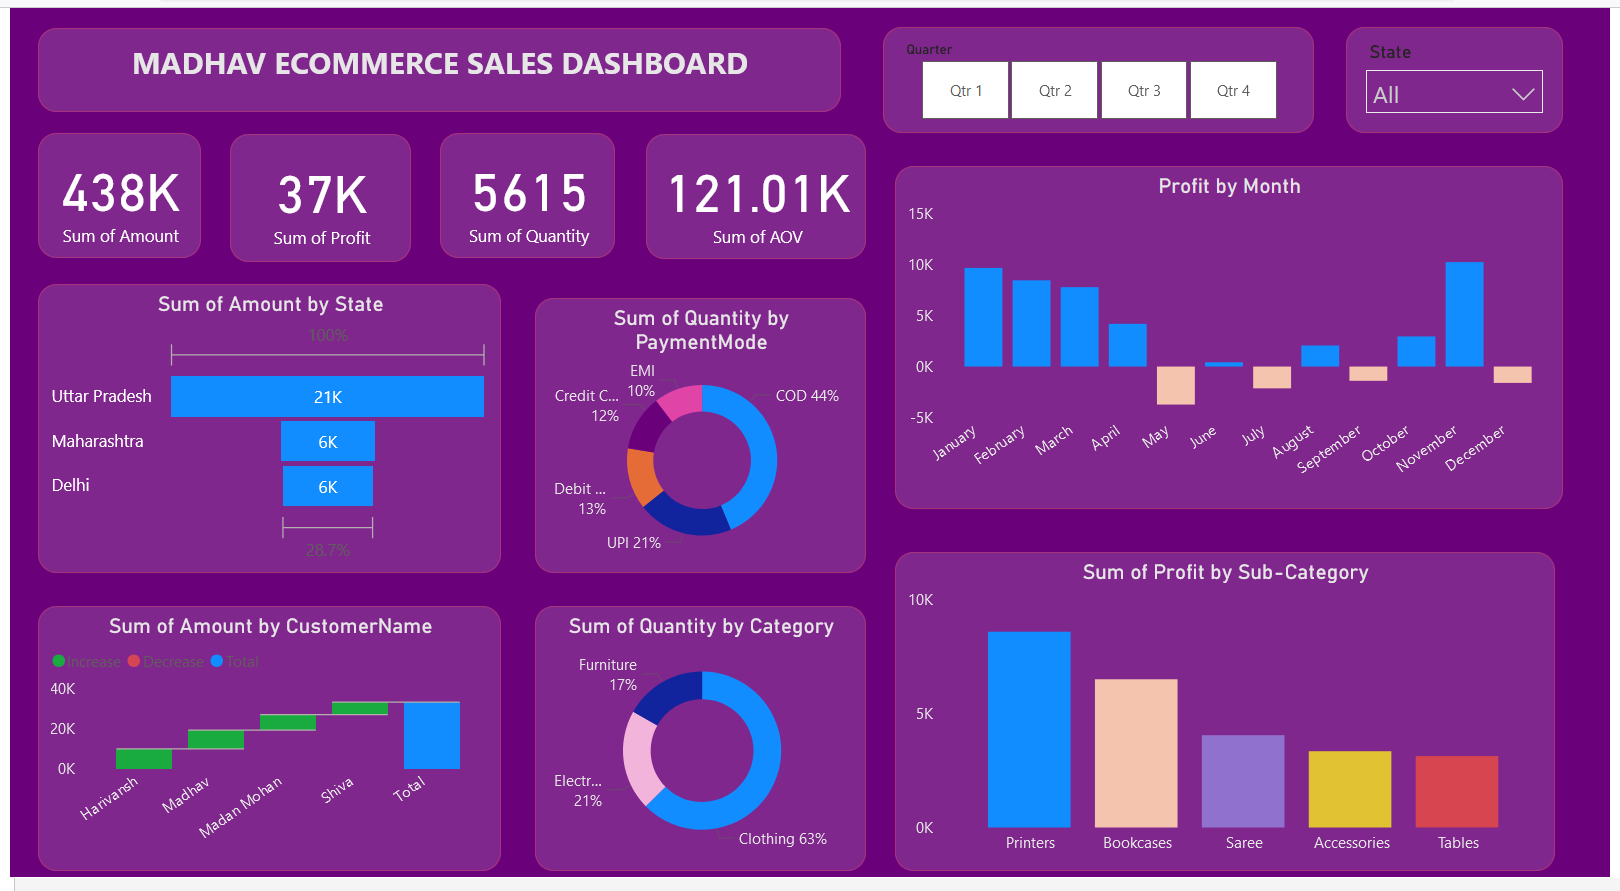

The page's visual inventory and layout, read from the dashboard file:
{"tool":"powerbi","page":{"name":"Page 1","canvas":[1280,720],"ordinal":0},"visuals":[{"type":"clusteredColumnChart","title":"Profit by Month","fields":{"Category":["Orders.Order Date.Variation.Date Hierarchy.Month"],"Y":["Sum(Details.Profit)"]},"box":[708.1,126.2,533.8,274.4],"z":0},{"type":"columnChart","fields":{"Category":["Details.Sub-Category"],"Y":["Sum(Details.Profit)"]},"box":[708.1,435,528.3,255.2],"z":1000},{"type":"donutChart","fields":{"Category":["Details.Category"],"Y":["Sum(Details.Quantity)"]},"box":[419.7,477.6,265.3,212.3],"z":2000},{"type":"donutChart","fields":{"Y":["Sum(Details.Quantity)"],"Category":["Details.PaymentMode"]},"box":[419.7,231.6,265.3,220.7],"z":3000},{"type":"card","fields":{"Values":["Sum(Details.Amount)"]},"box":[21.7,100.1,131.5,100.1],"z":4000},{"type":"card","fields":{"Values":["Sum(Details.Profit)"]},"box":[176.1,101.3,144.7,101.3],"z":5000},{"type":"card","fields":{"Values":["Sum(Details.AOV)"]},"box":[508.9,101.3,176.1,100.1],"z":6000},{"type":"card","fields":{"Values":["Sum(Details.Quantity)"]},"box":[343.7,100.1,139.9,100.1],"z":7000},{"type":"waterfallChart","fields":{"Category":["Orders.CustomerName"],"Y":["Sum(Details.Amount)"]},"box":[21.7,477.6,371.5,212.3],"z":8000},{"type":"textbox","box":[21.7,15.7,642.8,67.5],"z":9000},{"type":"slicer","fields":{"Values":["Orders.Order Date.Variation.Date Hierarchy.Quarter"]},"box":[698.5,15.1,344.4,85.1],"z":10000},{"type":"slicer","fields":{"Values":["Orders.State"]},"box":[1069,15.1,172.9,85.1],"z":11000},{"type":"filledMap","fields":{"Category":["Orders.State"]},"box":[21.7,220.7,371.5,231.6],"z":12000}]}

Visuals, with their boxes in screenshot pixels (x1, y1, x2, y2), scaled from the page's 1280x720 canvas onto the 1620x891 screenshot:
"Profit by Month" clusteredColumnChart: {"left": 896, "top": 156, "right": 1572, "bottom": 496}
columnChart - Details.Sub-Category x Sum(Details.Profit): {"left": 896, "top": 538, "right": 1565, "bottom": 854}
donutChart - Details.Category x Sum(Details.Quantity): {"left": 531, "top": 591, "right": 867, "bottom": 854}
donutChart - Sum(Details.Quantity) x Details.PaymentMode: {"left": 531, "top": 287, "right": 867, "bottom": 560}
card - Sum(Details.Amount): {"left": 27, "top": 124, "right": 194, "bottom": 248}
card - Sum(Details.Profit): {"left": 223, "top": 125, "right": 406, "bottom": 251}
card - Sum(Details.AOV): {"left": 644, "top": 125, "right": 867, "bottom": 249}
card - Sum(Details.Quantity): {"left": 435, "top": 124, "right": 612, "bottom": 248}
waterfallChart - Orders.CustomerName x Sum(Details.Amount): {"left": 27, "top": 591, "right": 498, "bottom": 854}
textbox: {"left": 27, "top": 19, "right": 841, "bottom": 103}
slicer - Orders.Order Date.Variation.Date Hierarchy.Quarter: {"left": 884, "top": 19, "right": 1320, "bottom": 124}
slicer - Orders.State: {"left": 1353, "top": 19, "right": 1572, "bottom": 124}
filledMap - Orders.State: {"left": 27, "top": 273, "right": 498, "bottom": 560}
